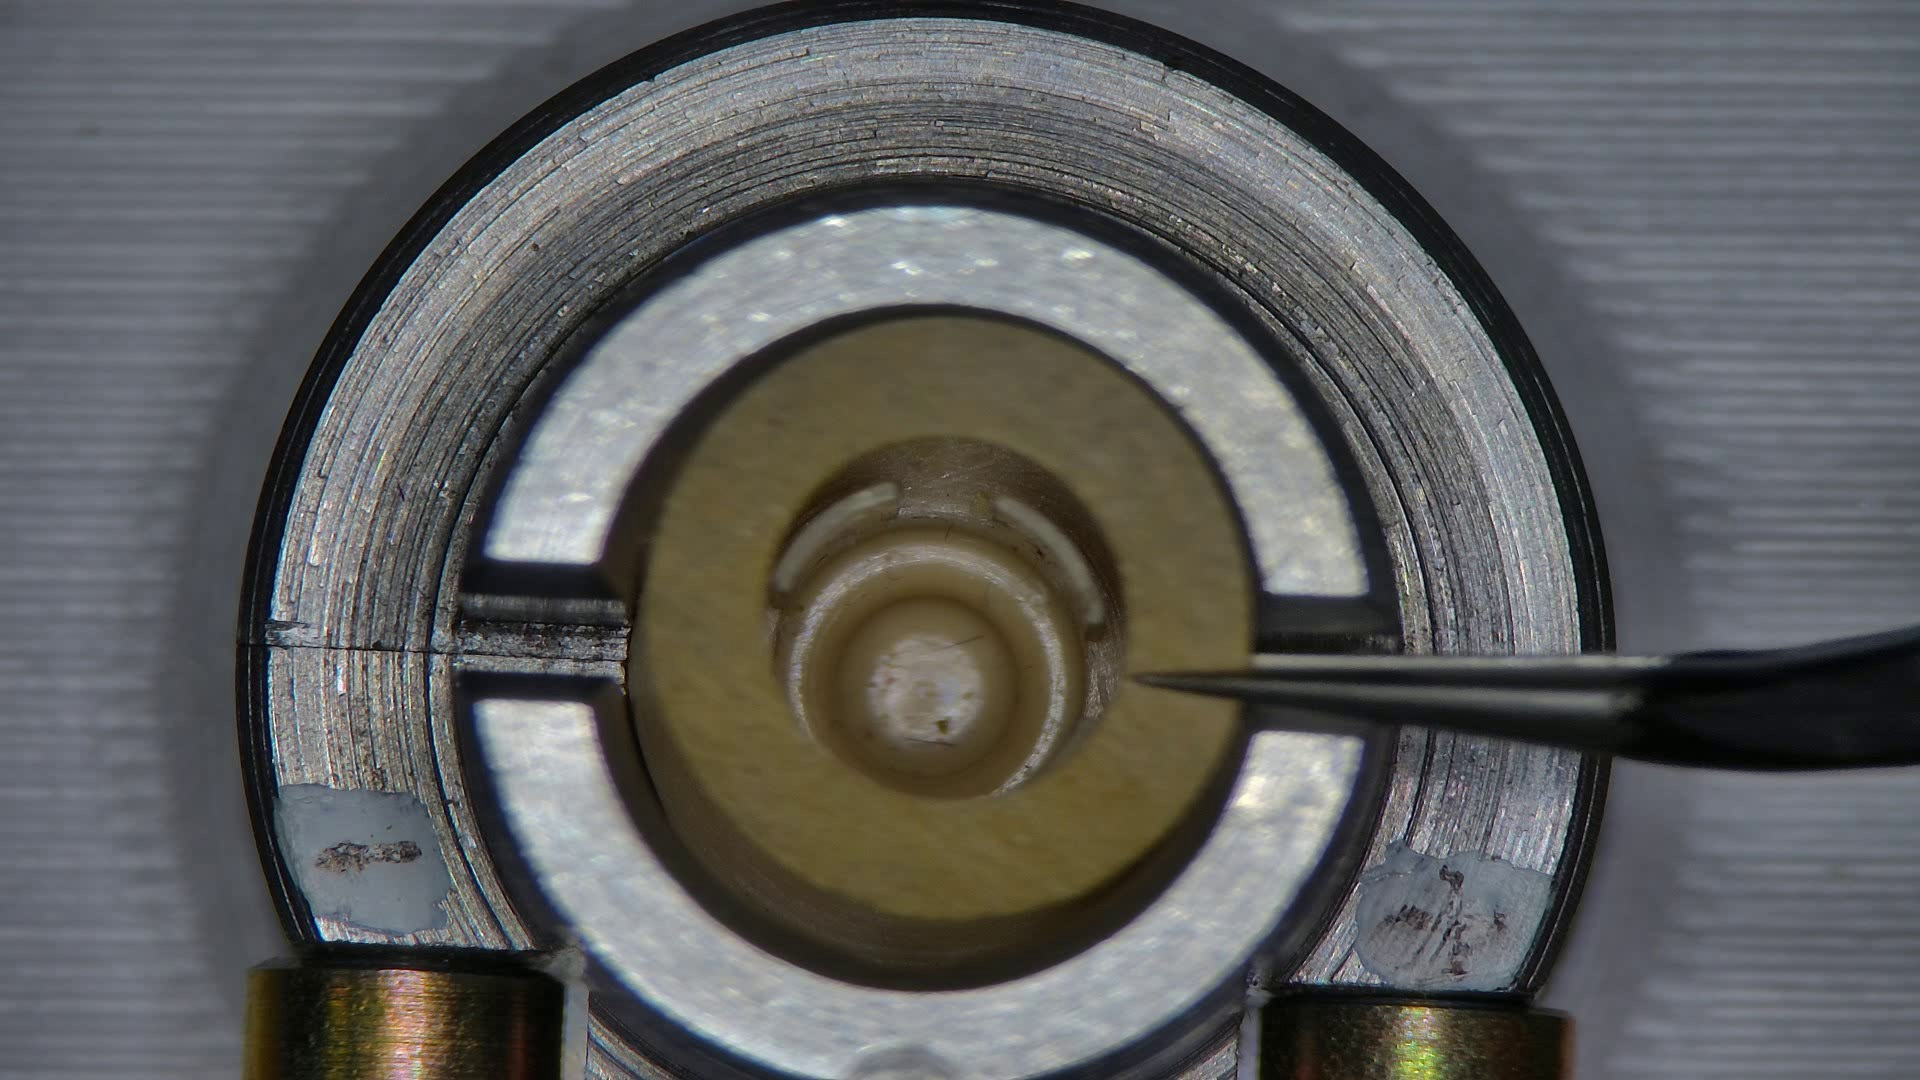redOring: (646, 322, 1246, 920)
